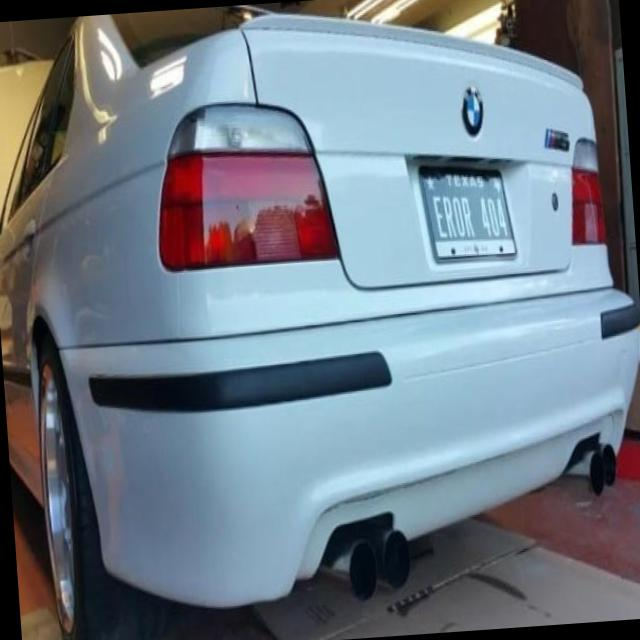LicensePlate: (417, 167, 518, 262)
